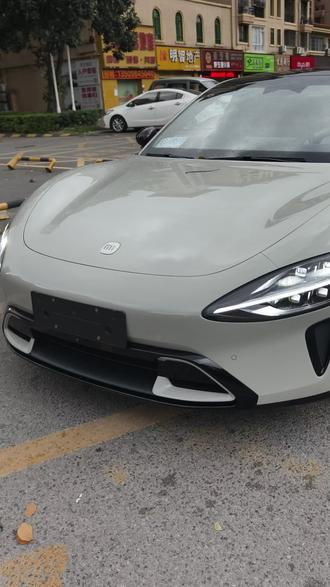su7: (4, 70, 330, 409)
